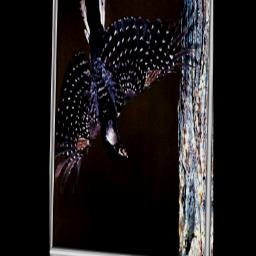Woodpecker: (54, 0, 197, 205)
